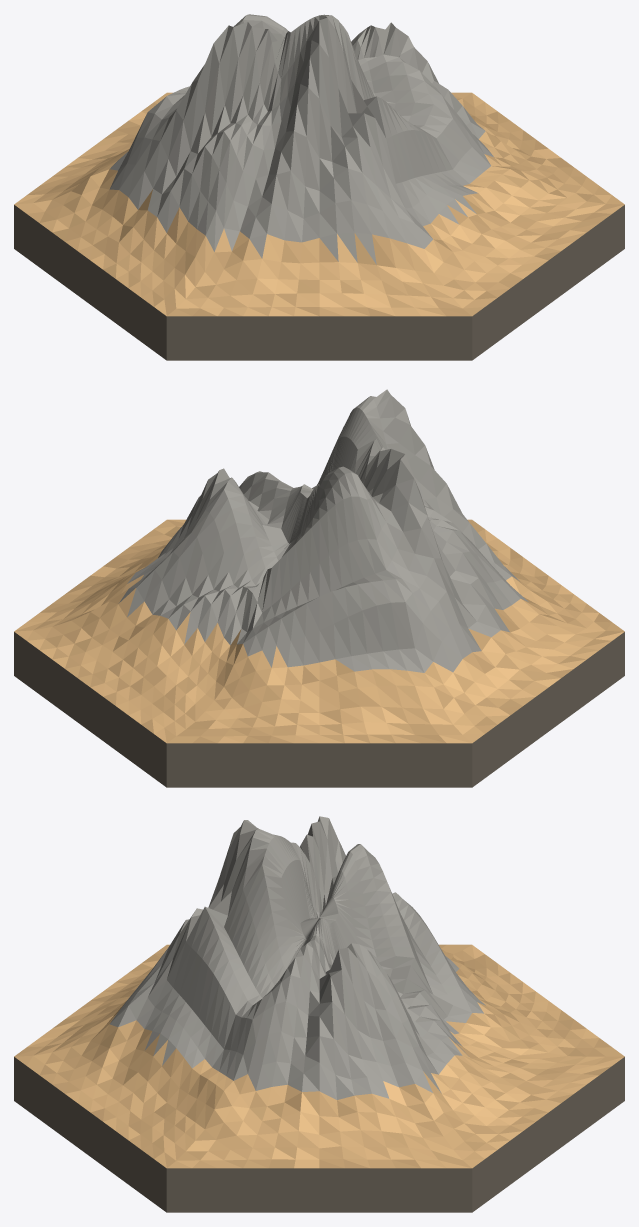
Rendered from TERRAIN_DESERT_MOUNTAIN_v00.fbx.
The picture shows the model from 3 angles, top to bottom: view 1: azimuth 30°, elevation 25°; view 2: azimuth 150°, elevation 25°; view 3: azimuth 270°, elevation 25°; orthographic projection.
Visible parts, largest first — view 1: TERRAIN_DESERT_MOUNTAIN_v00; view 2: TERRAIN_DESERT_MOUNTAIN_v00; view 3: TERRAIN_DESERT_MOUNTAIN_v00.
Part boxes in pixels (x1,y1,x2,y2): TERRAIN_DESERT_MOUNTAIN_v00: (14,14,624,360); TERRAIN_DESERT_MOUNTAIN_v00: (14,389,624,787); TERRAIN_DESERT_MOUNTAIN_v00: (14,816,624,1212).
Size of the model in its own units: 173 by 96.15 by 200.
